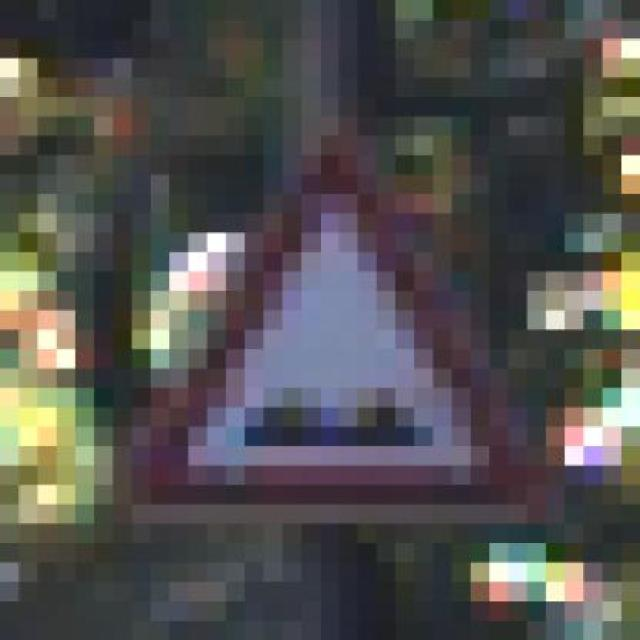Uneven Road: (94, 96, 546, 524)
